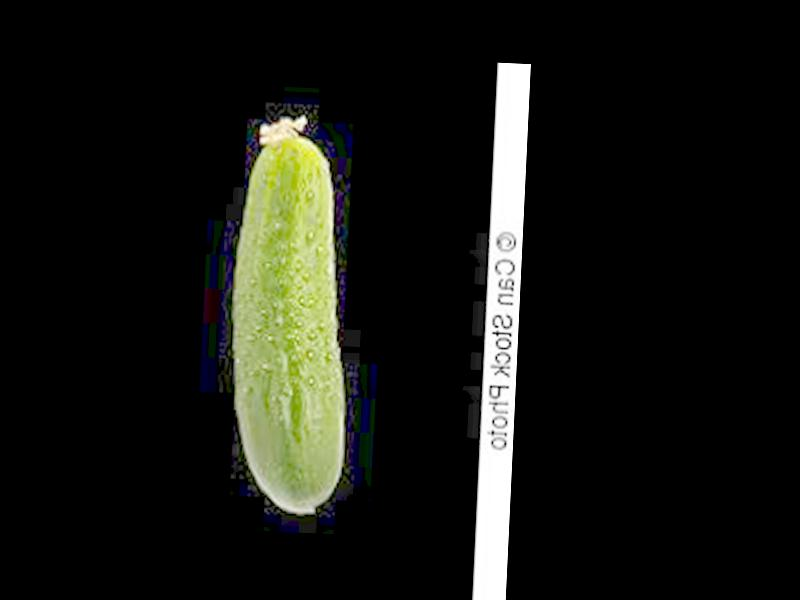Cucumber: (223, 112, 357, 515)
